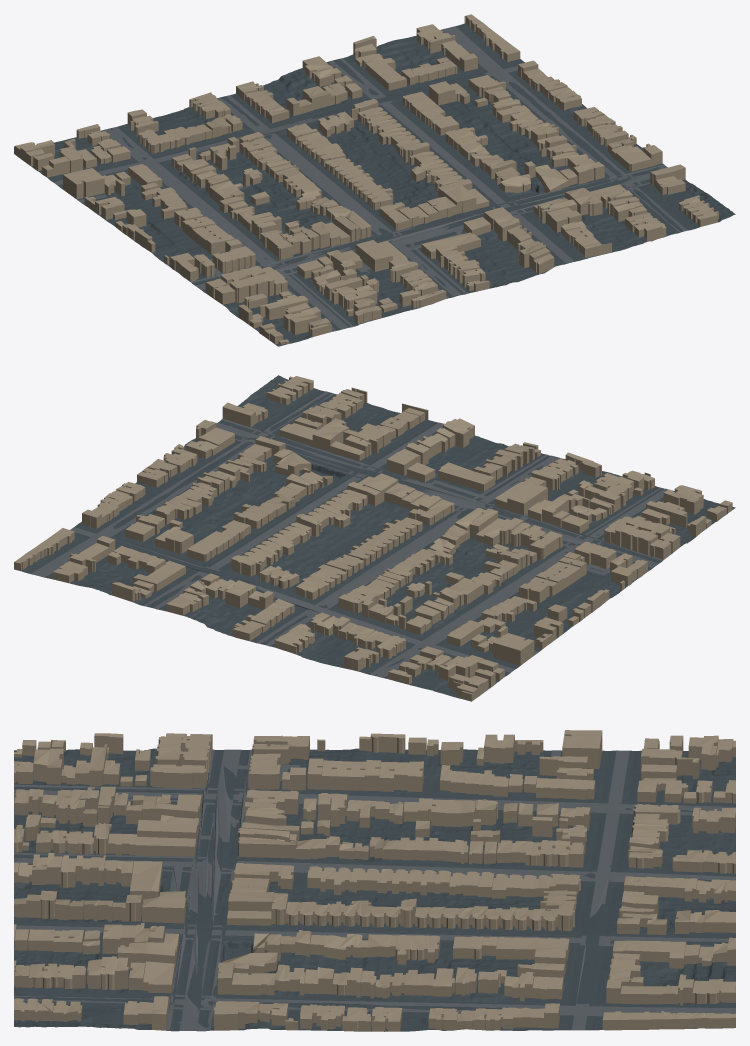
The model's file is epsg26910-1415-10883.lod0.glb.
The picture shows the model from 3 angles, top to bottom: view 1: azimuth 30°, elevation 25°; view 2: azimuth 150°, elevation 25°; view 3: azimuth 270°, elevation 25°; orthographic projection. The views are drawn at different scales.
Visible parts, largest first — view 1: epsg26910-1415-10883-lod0; view 2: epsg26910-1415-10883-lod0; view 3: epsg26910-1415-10883-lod0.
Boxes of the visible parts, x1,y1,x2,y2 form: epsg26910-1415-10883-lod0: [14, 14, 735, 346]; epsg26910-1415-10883-lod0: [14, 375, 735, 701]; epsg26910-1415-10883-lod0: [14, 730, 735, 1031].
Bounding box in the file's own units: 384 × 25.14 × 384.
